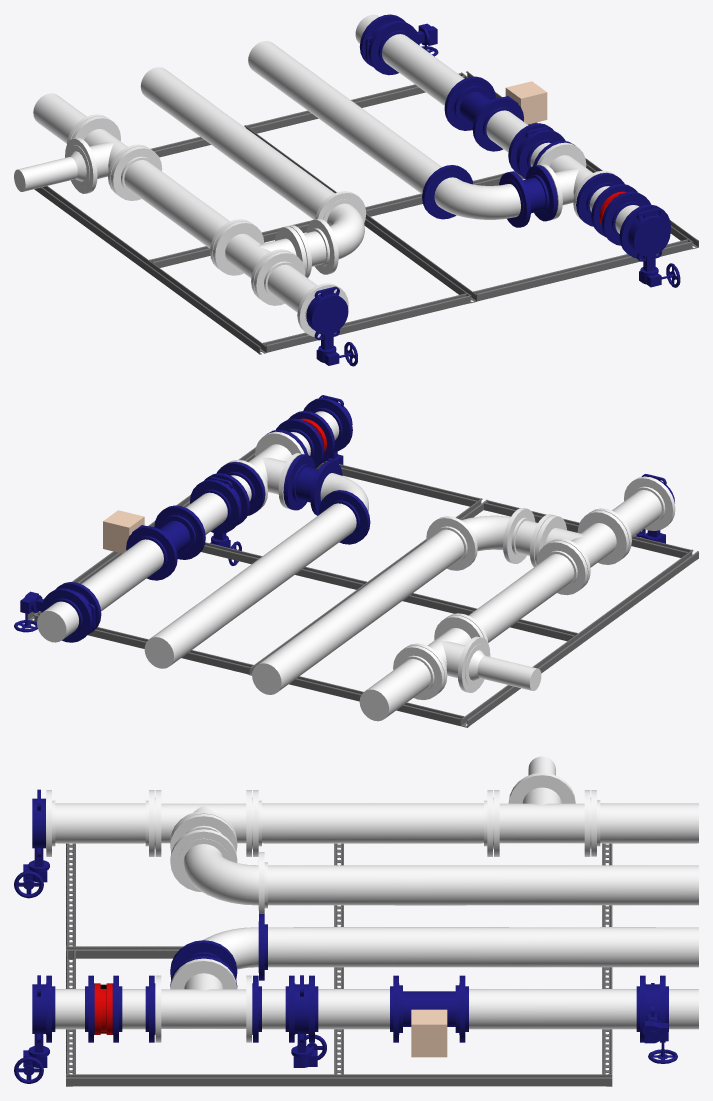
File: Type_10.glb
3 renders of one model, top to bottom at view 1: azimuth 30°, elevation 25°; view 2: azimuth 150°, elevation 25°; view 3: azimuth 270°, elevation 25°, orthographic. The views are drawn at different scales.
Visible parts, largest first — view 1: Untitled.1987, Untitled.1982, Untitled.1986, Untitled.1549, Untitled.1996, Untitled.1567, Untitled.1951, Untitled.1978, Untitled.1916, Untitled.1914, Untitled.1568, Untitled.1995 (+31 smaller); view 2: Untitled.1987, Untitled.1982, Untitled.1986, Untitled.1549, Untitled.1996, Untitled.1567, Untitled.1978, Untitled.1989, Untitled.1568, Untitled.1995, Untitled.1992, Untitled.2001 (+34 smaller); view 3: Untitled.1982, Untitled.1987, Untitled.1986, Untitled.1999, Untitled.1978, Untitled.1567, Untitled.1568, Untitled.1989, Untitled.1984, Untitled.1948, Untitled.1976, Untitled.1549 (+37 smaller).
Boxes of the visible parts, x1,y1,x2,y2 form: Untitled.1987: (140,67,334,219); Untitled.1982: (248,41,441,193); Untitled.1986: (124,160,229,248); Untitled.1549: (212,221,306,298); Untitled.1996: (34,186,266,354); Untitled.1567: (65,116,151,194); Untitled.1951: (434,177,520,219); Untitled.1978: (382,34,464,105); Untitled.1916: (628,208,680,287); Untitled.1914: (306,286,357,366); Untitled.1568: (537,142,616,220); Untitled.1995: (473,239,691,301); Untitled.1987: (252,529,464,694); Untitled.1982: (144,503,356,668); Untitled.1986: (468,554,574,642); Untitled.1549: (534,510,628,588); Untitled.1996: (460,549,698,727); Untitled.1567: (404,615,490,693); Untitled.1978: (81,539,163,611); Untitled.1989: (359,659,430,721); Untitled.1568: (225,431,304,510); Untitled.1995: (316,461,480,506); Untitled.1992: (477,656,541,690); Untitled.2001: (289,676,464,726); Untitled.1982: (268,927,698,967); Untitled.1987: (268,865,698,905); Untitled.1986: (262,803,483,843); Untitled.1999: (66,1074,612,1086); Untitled.1978: (469,989,636,1029); Untitled.1567: (493,772,590,856); Untitled.1568: (155,958,252,1042); Untitled.1989: (600,803,698,843); Untitled.1984: (55,803,145,843); Untitled.1948: (183,844,258,905); Untitled.1976: (318,989,389,1029); Untitled.1549: (155,790,252,856).
Bounding box in the file's own units: 2.72 × 0.4314 × 2.86.
